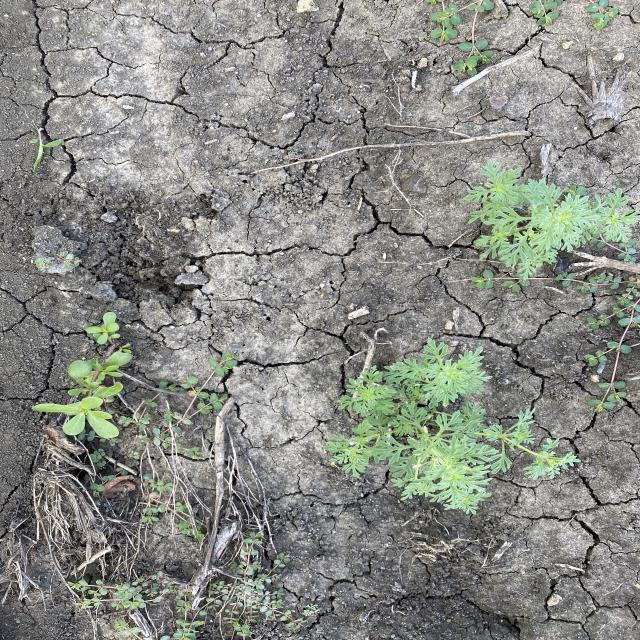Purslane: (32, 310, 136, 440)
Ragweed: (321, 334, 584, 517), (464, 157, 639, 282)
SpottedSpurge: (53, 528, 310, 638), (468, 258, 638, 414), (423, 1, 623, 80), (118, 349, 244, 467)
